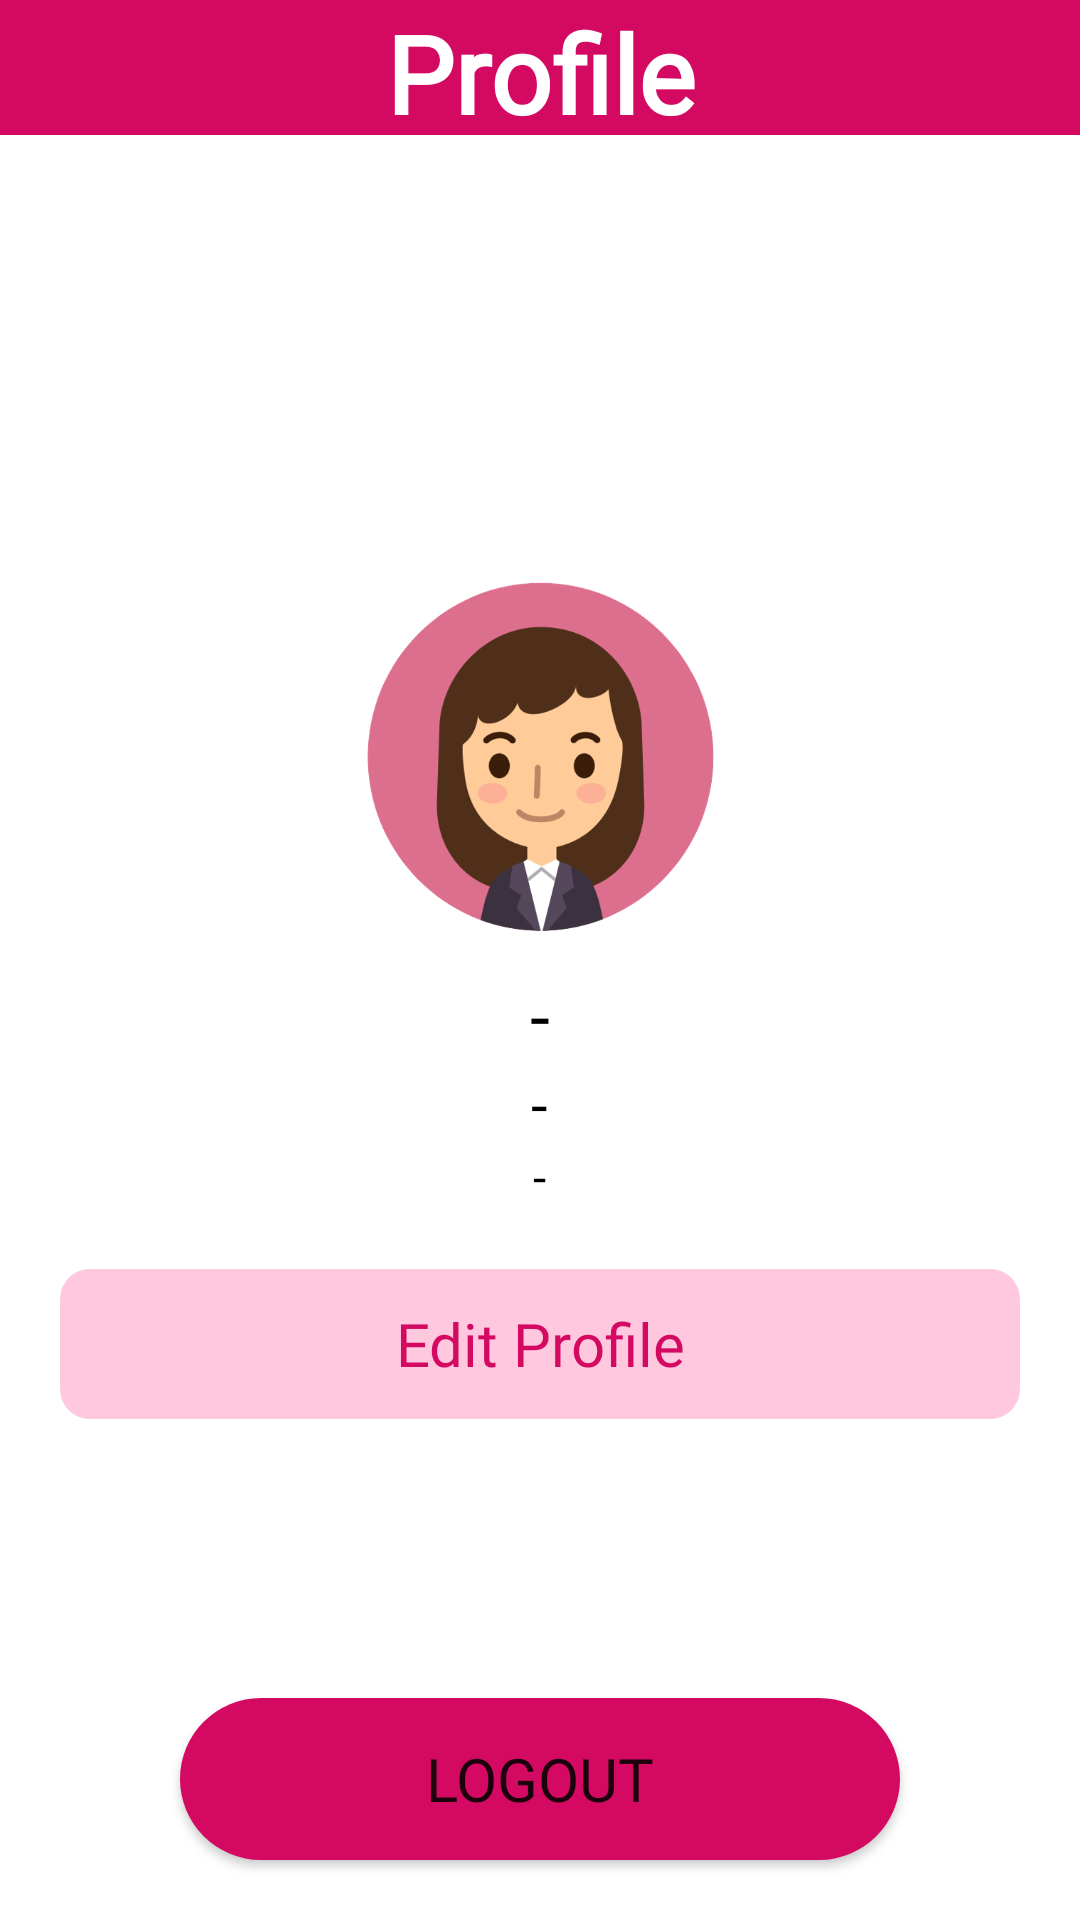

Named icons in this screenshot (1080px x 1920px) and their centers, [x,y]:
profile: [540,756]
